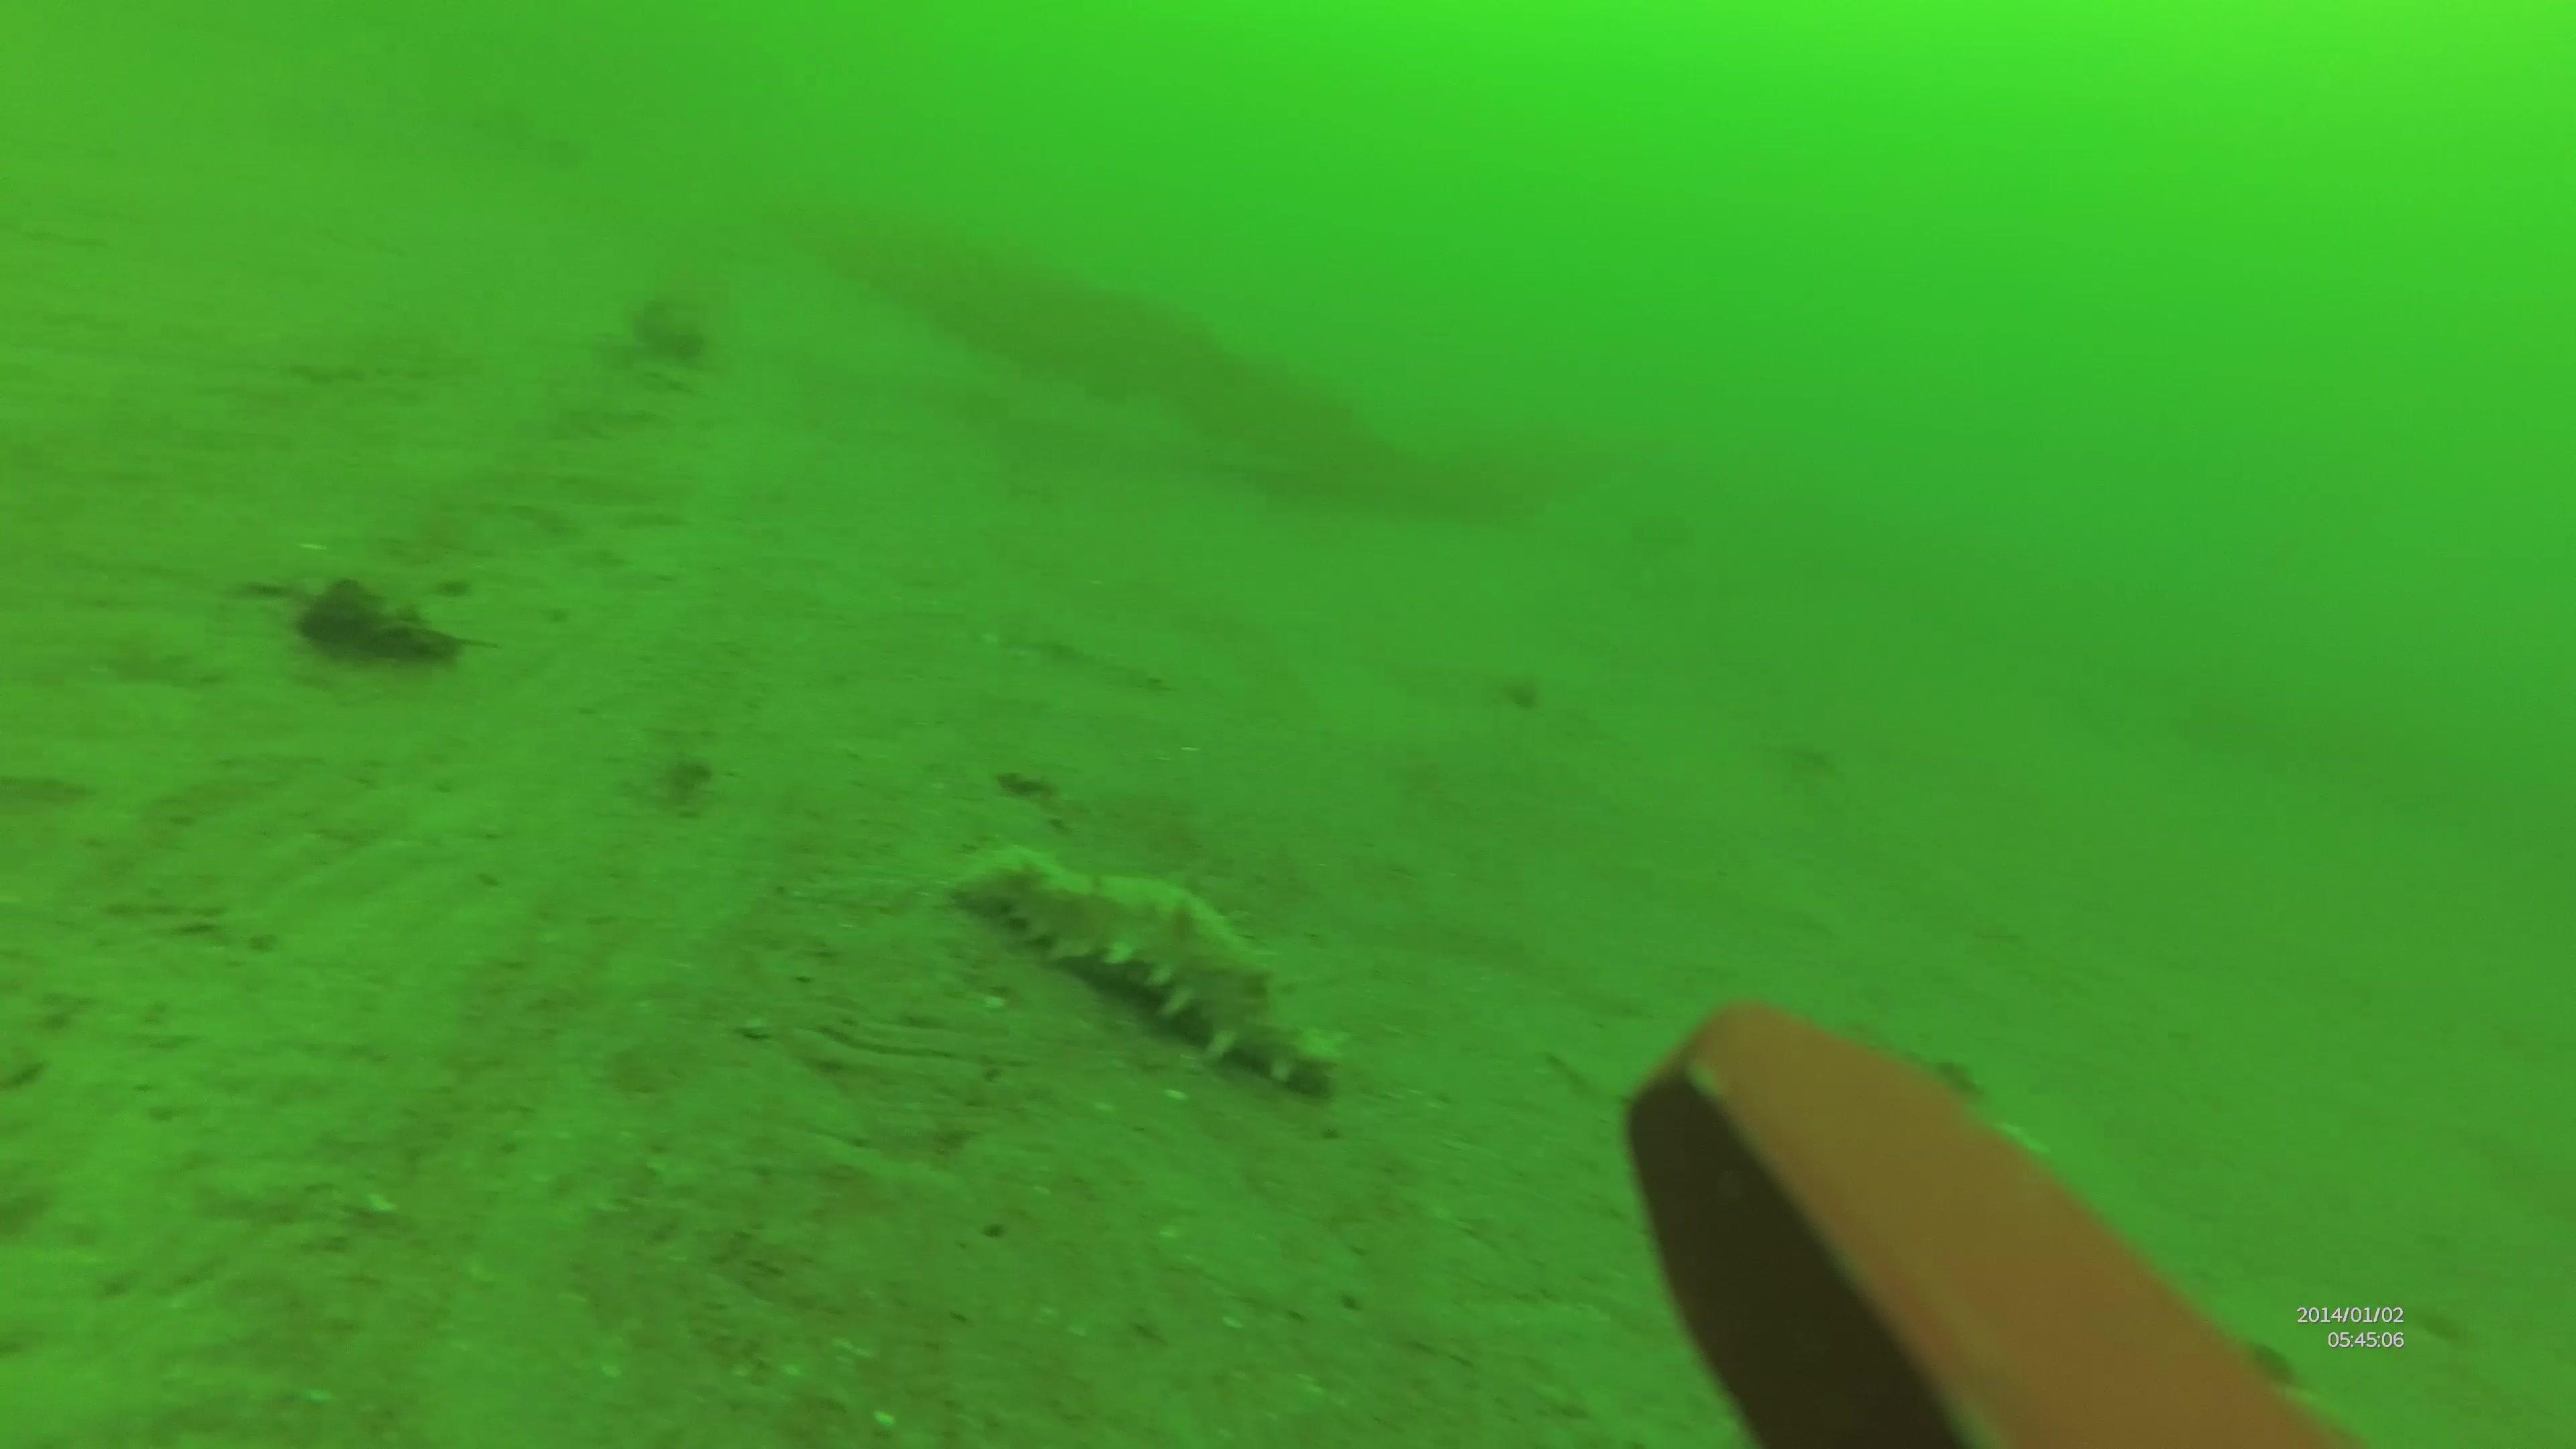holothurian: (947, 839, 1346, 1100)
